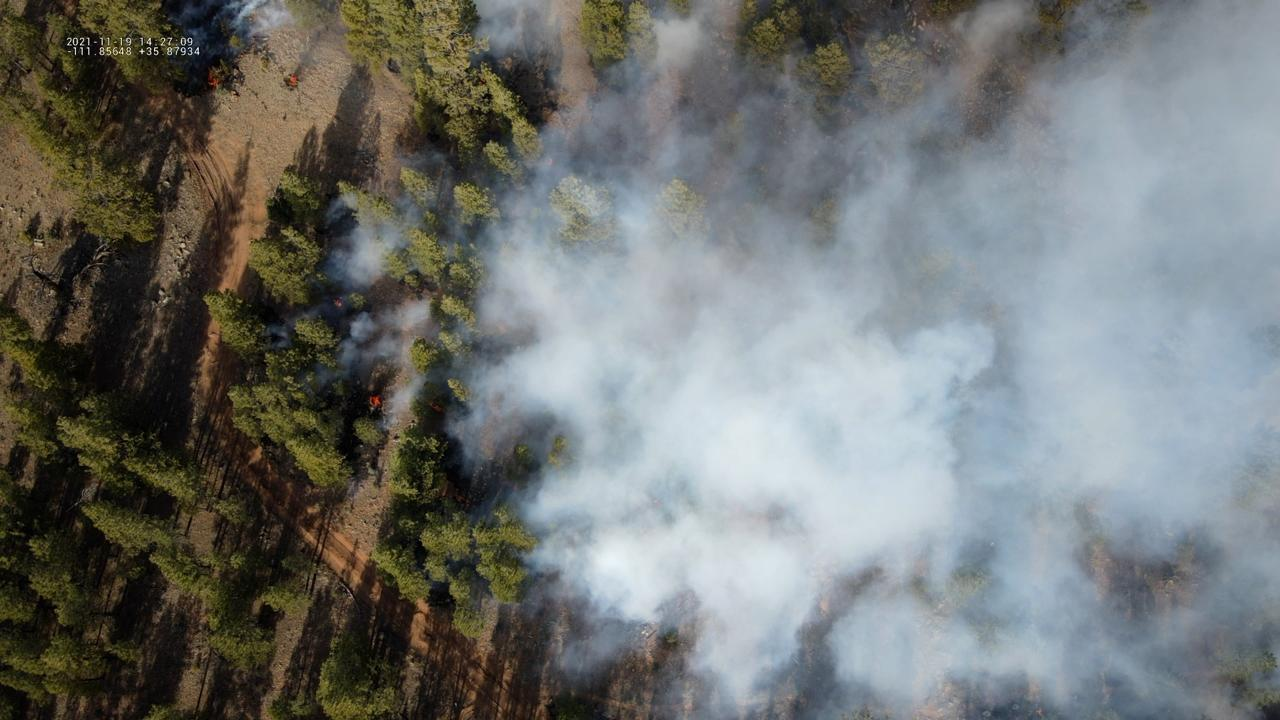fire: (367, 393, 380, 409), (286, 74, 299, 88), (207, 70, 217, 86), (332, 298, 343, 307)
smoke: (297, 0, 1280, 720), (169, 0, 298, 94), (259, 322, 295, 351)
